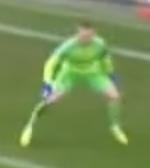goalkeeper: (12, 10, 150, 162)
